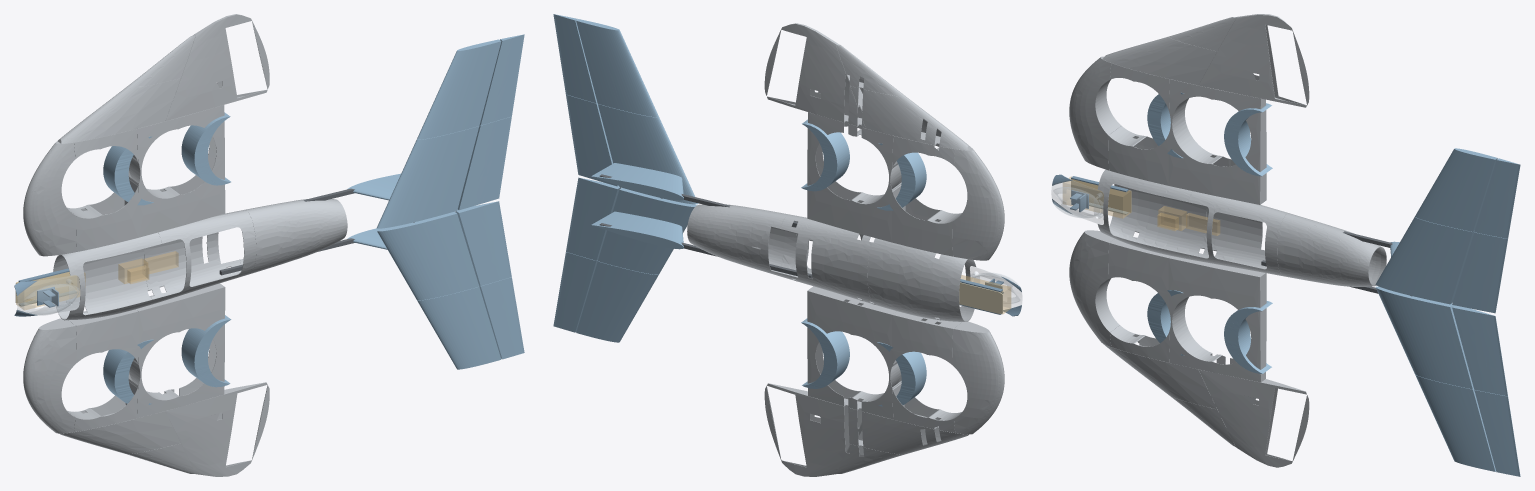
File: v19b_falcon_tail.glb
3 renders of one model, left to right at view 1: azimuth 30°, elevation 25°; view 2: azimuth 150°, elevation 25°; view 3: azimuth 330°, elevation 25°, orthographic. The views are drawn at different scales.
Visible parts, largest first — view 1: WLC_hollow_wing, F3_hollow_body, WRC_hollow_wing, F2_hollow_body, NEW_tail_stab_R1, NEW_tail_stab_L1, F4_hollow_body, WRF_falcon_wing, WLF_falcon_wing, NEW_tail_stab_R2, WLA_hollow_wing, WRA_hollow_wing (+19 smaller); view 2: F2_hollow_body, WLC_hollow_wing, WRC_hollow_wing, F4_hollow_body, F3_hollow_body, WRF_falcon_wing, WLF_falcon_wing, NEW_tail_stab_R2, WLA_hollow_wing, WRA_hollow_wing, NEW_tail_stab_L2, NEW_tail_stab_R1 (+17 smaller); view 3: WLC_hollow_wing, WRC_hollow_wing, F2_hollow_body, F4_hollow_body, NEW_tail_stab_R1, NEW_tail_stab_L1, F3_hollow_body, WRF_falcon_wing, WLF_falcon_wing, NEW_tail_stab_R2, NEW_tail_stab_L2, WLB_hollow_wing (+18 smaller).
Boxes of the visible parts, <box> form: WLC_hollow_wing: <box>128,283,225,418</box>; F3_hollow_body: <box>144,210,256,302</box>; WRC_hollow_wing: <box>128,105,225,237</box>; F2_hollow_body: <box>53,232,161,320</box>; NEW_tail_stab_R1: <box>377,126,479,228</box>; NEW_tail_stab_L1: <box>376,211,479,300</box>; F4_hollow_body: <box>240,199,347,273</box>; WRF_falcon_wing: <box>165,14,269,121</box>; WLF_falcon_wing: <box>165,382,269,476</box>; NEW_tail_stab_R2: <box>417,39,501,139</box>; WLA_hollow_wing: <box>23,318,76,433</box>; WRA_hollow_wing: <box>23,141,76,256</box>; F2_hollow_body: <box>867,238,976,321</box>; WLC_hollow_wing: <box>807,286,901,419</box>; WRC_hollow_wing: <box>807,112,901,242</box>; F4_hollow_body: <box>687,204,796,276</box>; F3_hollow_body: <box>780,214,874,304</box>; WRF_falcon_wing: <box>764,23,865,128</box>; WLF_falcon_wing: <box>764,383,865,476</box>; NEW_tail_stab_R2: <box>576,19,658,117</box>; WLA_hollow_wing: <box>952,321,1004,434</box>; WRA_hollow_wing: <box>952,148,1004,260</box>; NEW_tail_stab_L2: <box>576,261,658,342</box>; NEW_tail_stab_R1: <box>598,104,698,204</box>; WLC_hollow_wing: <box>1168,253,1266,382</box>; WRC_hollow_wing: <box>1168,79,1266,204</box>; F2_hollow_body: <box>1097,169,1206,259</box>; F4_hollow_body: <box>1277,213,1386,286</box>; NEW_tail_stab_R1: <box>1375,217,1474,304</box>; NEW_tail_stab_L1: <box>1375,286,1473,389</box>; F3_hollow_body: <box>1188,191,1288,275</box>; WRF_falcon_wing: <box>1198,14,1309,107</box>; WLF_falcon_wing: <box>1199,369,1309,467</box>; NEW_tail_stab_R2: <box>1415,148,1497,231</box>; NEW_tail_stab_L2: <box>1415,374,1495,471</box>; WLB_hollow_wing: <box>1108,237,1170,362</box>.
Bounding box in the file's own units: 1122 × 1000 × 133.
